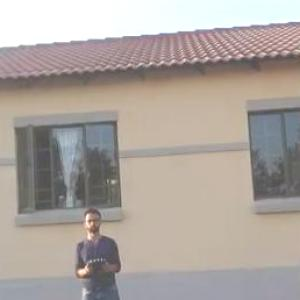follow: (71, 202, 128, 299)
